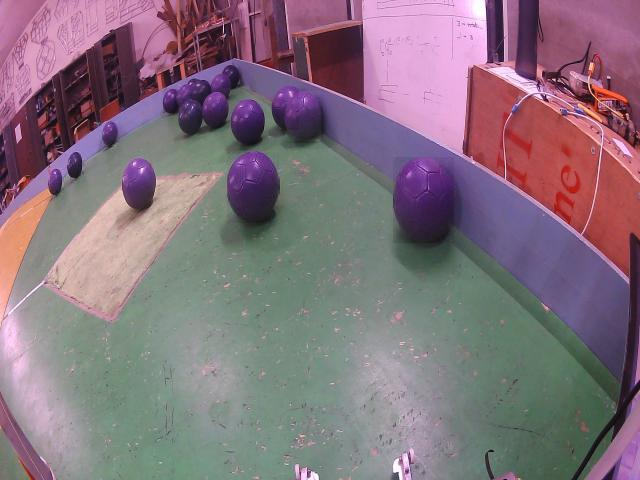jambhalya: (394, 157, 454, 243), (227, 152, 279, 223), (285, 91, 321, 141), (122, 158, 156, 210), (231, 98, 265, 145), (271, 85, 299, 130), (203, 92, 229, 128), (212, 74, 231, 98), (48, 168, 63, 195), (102, 121, 118, 146), (164, 89, 178, 113), (178, 85, 192, 106)
kaalyya: (179, 100, 202, 135), (193, 80, 211, 104), (67, 152, 83, 178), (223, 65, 240, 88), (188, 78, 198, 86)
